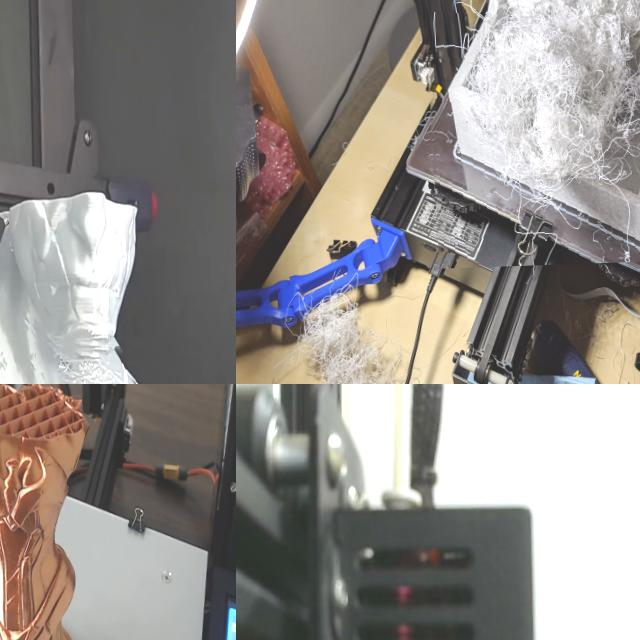spaghetti: (417, 0, 640, 268), (280, 279, 422, 384), (0, 329, 220, 384)
